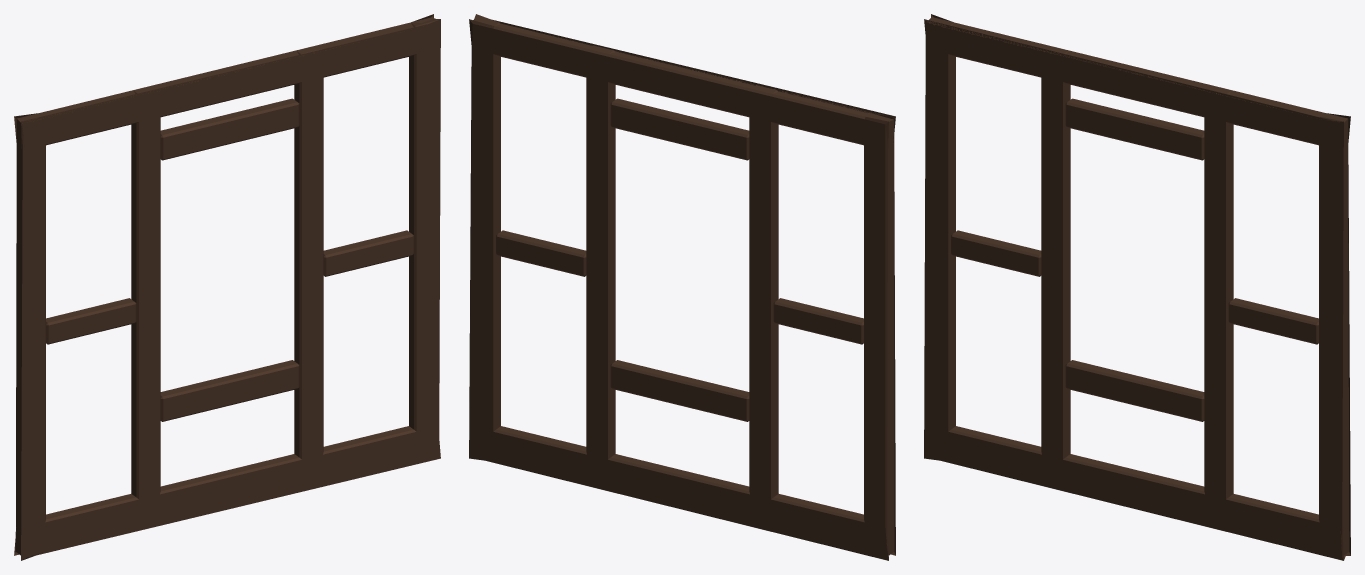
The model's file is timber_archwin_w12.fbx.
3 renders of one model, left to right at view 1: azimuth 30°, elevation 25°; view 2: azimuth 150°, elevation 25°; view 3: azimuth 330°, elevation 25°, orthographic.
Visible parts, largest first — view 1: timber_archwin_w12; view 2: timber_archwin_w12; view 3: timber_archwin_w12.
Part boxes in pixels (bbox=[...]): timber_archwin_w12: bbox=[14, 14, 440, 560]; timber_archwin_w12: bbox=[469, 14, 895, 560]; timber_archwin_w12: bbox=[924, 14, 1350, 560].
Bounding box in the file's own units: 1210 × 1210 × 35.
